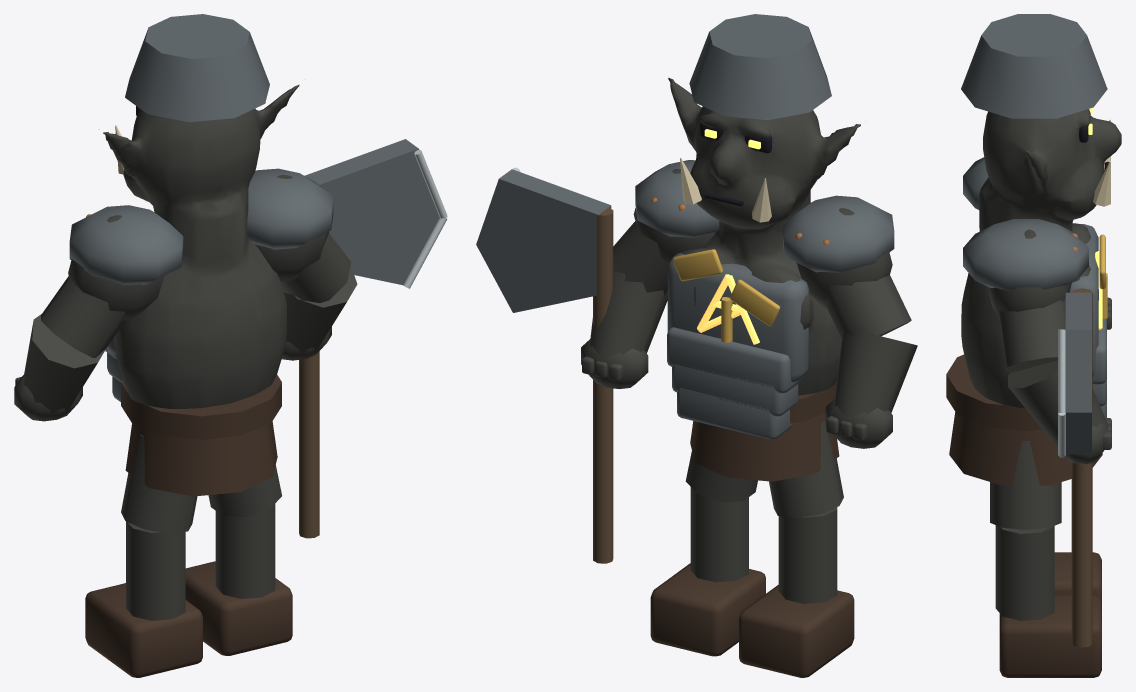
Rendered from host_36-ember.glb.
3 renders of one model, left to right at view 1: azimuth 30°, elevation 25°; view 2: azimuth 150°, elevation 25°; view 3: azimuth 270°, elevation 25°, orthographic.
Visible parts, largest first — view 1: mesh_Iron.043, mesh_Skin.002, mesh_Leather.002, mesh_Skin.003, mesh_Skin.054, mesh_Leather.054, mesh_Skin.004, mesh_Skin.001, mesh_Leather.001, mesh_Wood.034, mesh_Silver.012; view 2: mesh_Iron.043, mesh_Skin.002, mesh_Skin.003, mesh_Skin.004, mesh_Skin.054, mesh_Leather.054, mesh_Leather.002, mesh_Leather.001, mesh_Skin.001, mesh_Wood.034, mesh_Gold.005, mesh_Rune.024_magicImmune (+2 smaller); view 3: mesh_Iron.043, mesh_Skin.002, mesh_Skin.001, mesh_Skin.004, mesh_Leather.002, mesh_Leather.001, mesh_Wood.034, mesh_Leather.054, mesh_Silver.012, mesh_Gold.005, mesh_Bone.051, mesh_Rune.024_magicImmune.
Part boxes in pixels (x1,y1,x2,y2): mesh_Iron.043: (69,14,439,401); mesh_Skin.002: (103,84,299,408); mesh_Leather.002: (121,374,281,496); mesh_Skin.003: (14,215,163,421); mesh_Skin.054: (121,434,197,620); mesh_Leather.054: (85,583,202,677); mesh_Skin.004: (255,175,357,360); mesh_Skin.001: (208,465,281,598); mesh_Leather.001: (185,561,292,655); mesh_Wood.034: (299,351,319,538); mesh_Silver.012: (403,150,447,288); mesh_Iron.043: (476,14,894,439); mesh_Skin.002: (668,77,860,395); mesh_Skin.003: (796,208,917,448); mesh_Skin.004: (581,169,714,389); mesh_Skin.054: (769,420,843,603); mesh_Leather.054: (739,585,854,677); mesh_Leather.002: (690,381,839,481); mesh_Leather.001: (650,563,765,656); mesh_Skin.001: (685,451,757,582); mesh_Wood.034: (593,207,613,563); mesh_Gold.005: (673,249,780,342); mesh_Rune.024_magicImmune: (697,274,759,344); mesh_Iron.043: (961,14,1107,454); mesh_Skin.002: (961,109,1121,407); mesh_Skin.001: (990,441,1061,620); mesh_Skin.004: (987,229,1111,464); mesh_Leather.002: (946,354,1102,485); mesh_Leather.001: (999,595,1101,677); mesh_Wood.034: (1071,288,1092,647); mesh_Leather.054: (1054,552,1101,602); mesh_Silver.012: (1058,329,1065,457); mesh_Gold.005: (1099,234,1107,318); mesh_Bone.051: (1093,119,1110,206); mesh_Rune.024_magicImmune: (1095,251,1102,329).
Bounding box in the file's own units: 1.55 × 2.15 × 0.5619.
